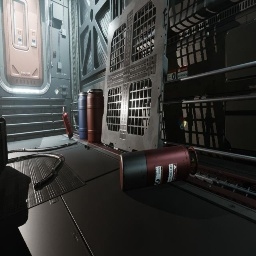FireExtinguisher ]: (62, 107, 73, 139)
NitrogenTank ,: (120, 145, 198, 192)
